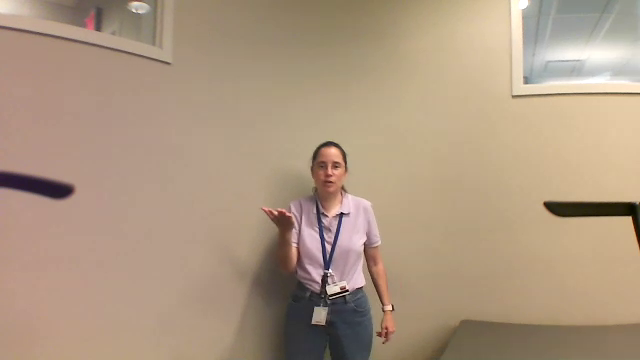land: (246, 193, 306, 240)
